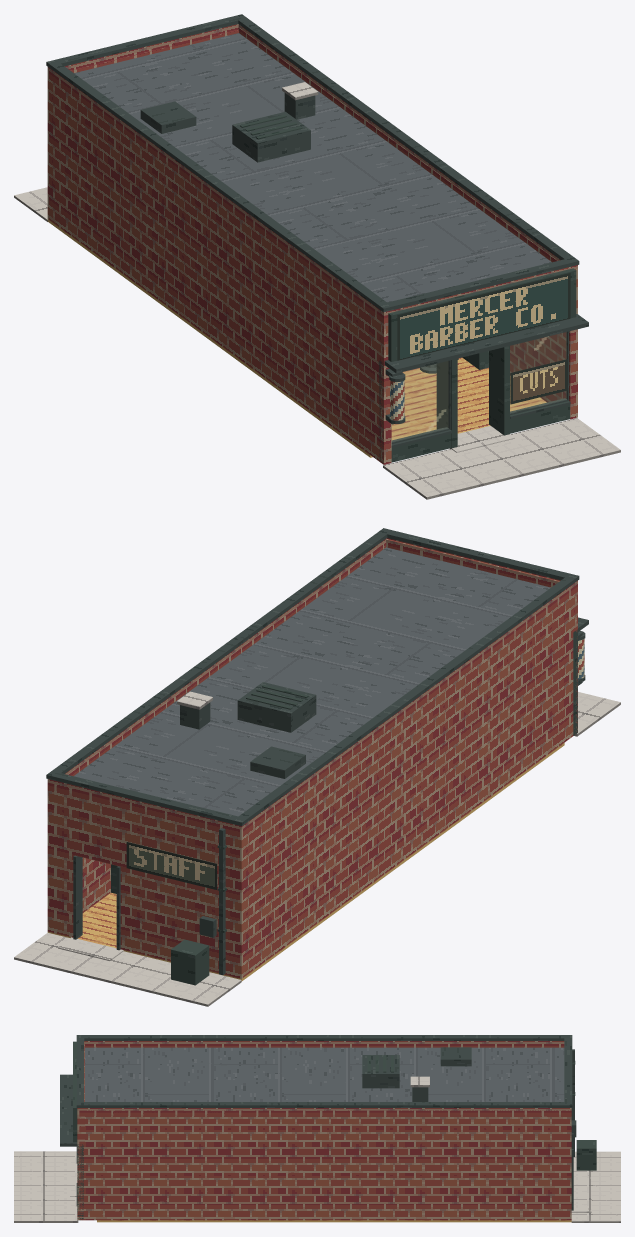
The model's file is barber-2010.glb.
3 renders of one model, top to bottom at view 1: azimuth 30°, elevation 25°; view 2: azimuth 150°, elevation 25°; view 3: azimuth 270°, elevation 25°, orthographic. The views are drawn at different scales.
Visible parts, largest first — view 1: shell, lot, sign_name, fixed_interior, sign_shop_window; view 2: shell, lot, fixed_interior, sign_staff; view 3: shell, lot, fixed_interior.
Part boxes in pixels (left/top/right/bottom): shell: left=46, top=14, right=588, bottom=464; lot: left=14, top=187, right=620, bottom=499; sign_name: left=397, top=273, right=570, bottom=360; fixed_interior: left=47, top=219, right=546, bottom=457; sign_shop_window: left=510, top=359, right=567, bottom=404; shell: left=46, top=528, right=588, bottom=978; lot: left=14, top=692, right=620, bottom=1006; fixed_interior: left=47, top=743, right=564, bottom=981; sign_staff: left=126, top=842, right=216, bottom=889; shell: left=60, top=1035, right=591, bottom=1220; lot: left=14, top=1140, right=620, bottom=1222; fixed_interior: left=97, top=1220, right=571, bottom=1222.
Size of what is drawn, in the model's own units: 6.05 by 5.06 by 22.1.
11 materials, 11 textured.
